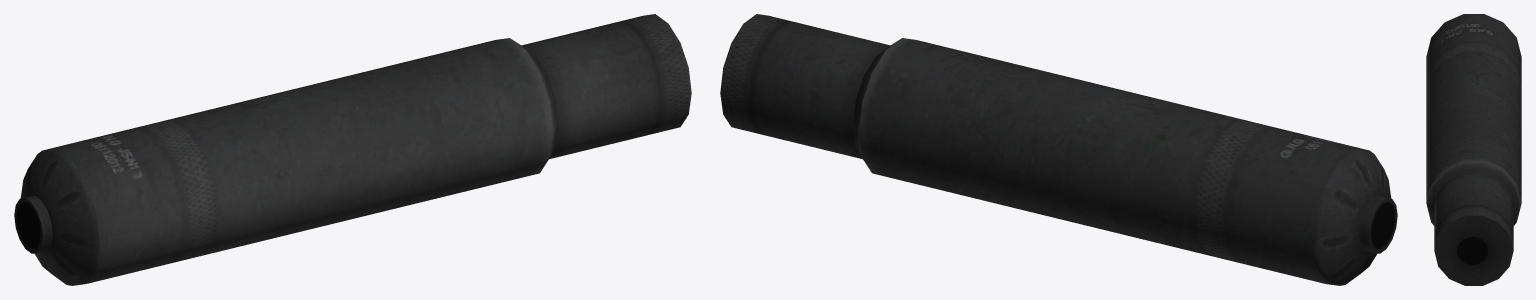
The model's file is t6_attach_shotgun_silencer2_view_LOD0.obj.
3 views of the same model, side by side, from view 1: azimuth 30°, elevation 25°; view 2: azimuth 150°, elevation 25°; view 3: azimuth 270°, elevation 25° (orthographic). The views are drawn at different scales.
Visible parts, largest first — view 1: mtl_t6_attach_shotgun_silencer1; view 2: mtl_t6_attach_shotgun_silencer1; view 3: mtl_t6_attach_shotgun_silencer1.
Part boxes in pixels (x1=…): mtl_t6_attach_shotgun_silencer1: x1=14, y1=14, x2=691, y2=285; mtl_t6_attach_shotgun_silencer1: x1=720, y1=14, x2=1397, y2=285; mtl_t6_attach_shotgun_silencer1: x1=1426, y1=14, x2=1521, y2=285.
Bounding box in the file's own units: 33.65 × 6.39 × 6.55.
